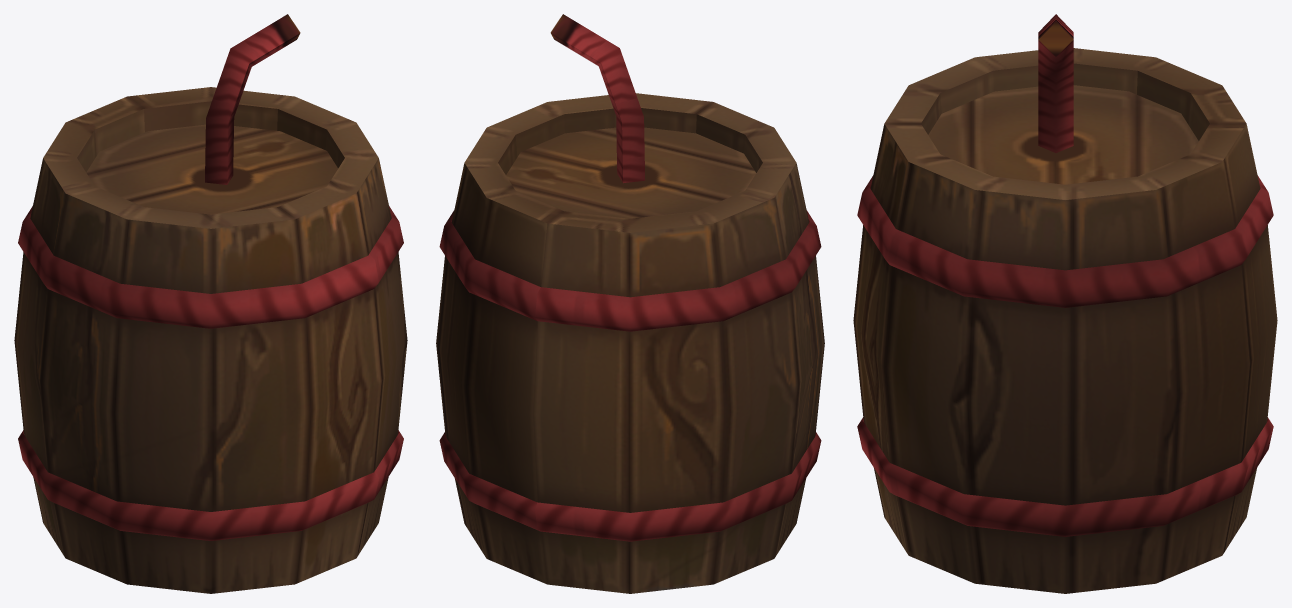
The model's file is bomb.FBX.
The picture shows the model from 3 angles, left to right: view 1: azimuth 30°, elevation 25°; view 2: azimuth 150°, elevation 25°; view 3: azimuth 270°, elevation 25°; orthographic projection. The views are drawn at different scales.
Parts seen in each view (by area): view 1: ____003; view 2: ____003; view 3: ____003.
Part boxes in pixels (bbox=[...]): ____003: bbox=[14, 14, 407, 593]; ____003: bbox=[436, 14, 824, 593]; ____003: bbox=[853, 14, 1277, 593].
Size of the model in its own units: 42.01 by 42.01 by 58.31.
